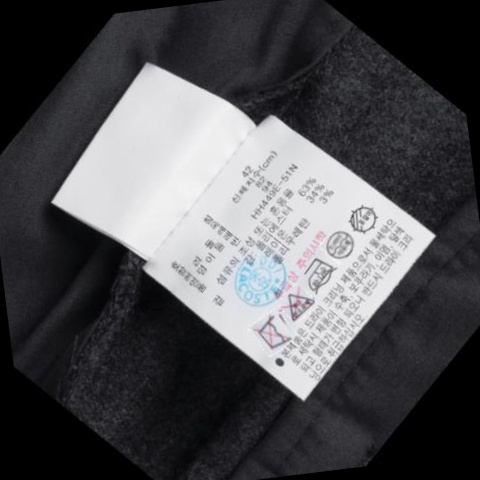DN_bleach: (283, 289, 318, 323)
DN_wash: (257, 316, 291, 353)
dry_clean_petrol_only: (324, 226, 361, 264)
iron_low: (304, 255, 340, 294)
line_dry_in_shade: (345, 200, 384, 234)
